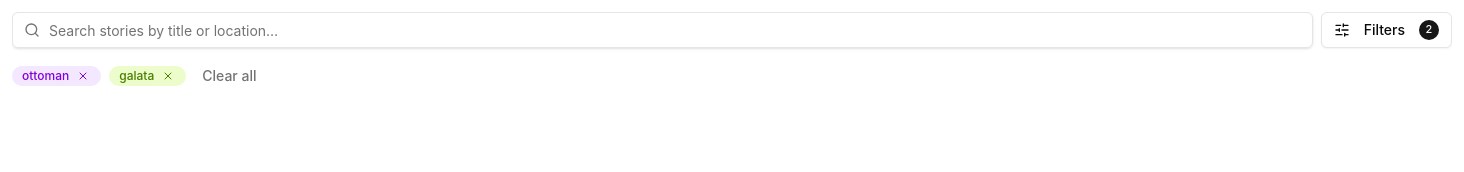
SearchFilter › removing a tag chip removes it from active filters
Expected: the text "ottoman" is shown, [22,68,69,83]
Click the button named "remove tag filter: ottoman". click: (83, 76)
box: [75,68,91,84]
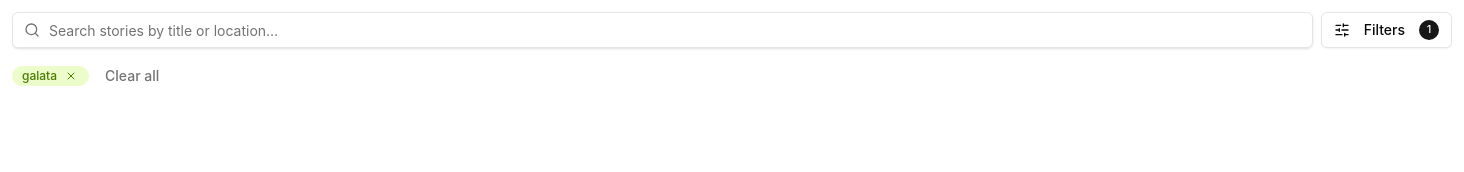
Expected: the text "galata" is shown, [22,68,57,83]
Expected: the text "ottoman" is gone
